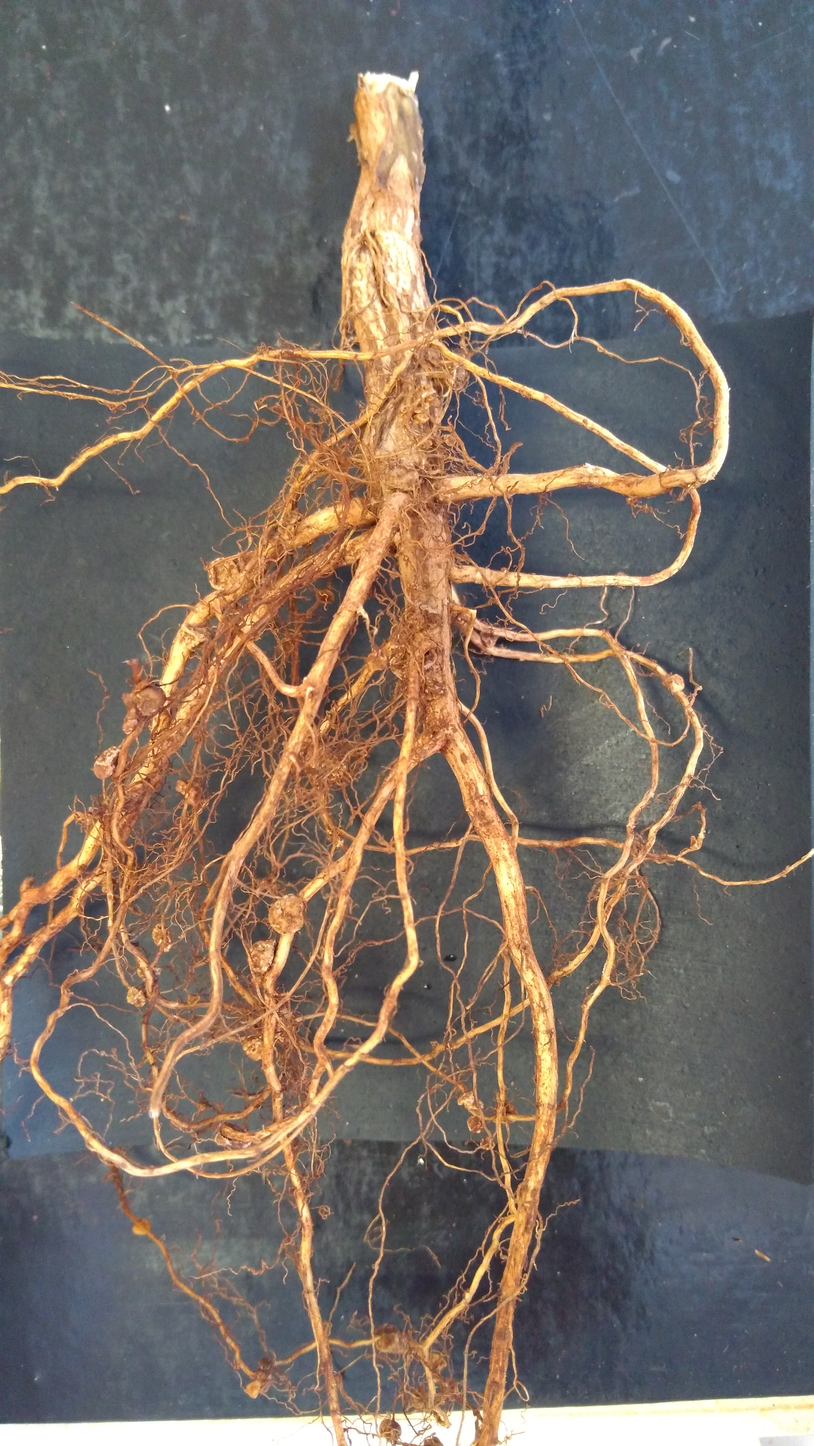nodule: (303, 741, 351, 790), (266, 893, 309, 935), (203, 553, 247, 594), (91, 744, 136, 781), (388, 647, 438, 680), (135, 676, 169, 715), (246, 939, 278, 973), (380, 467, 420, 492), (150, 921, 176, 955), (374, 1325, 403, 1354), (120, 690, 140, 732), (240, 1035, 266, 1066), (128, 1213, 154, 1242), (379, 1413, 405, 1442), (241, 1376, 263, 1403), (661, 672, 688, 694), (366, 649, 389, 674), (425, 395, 445, 423), (453, 1087, 476, 1110), (126, 985, 147, 1009), (462, 1111, 482, 1136), (135, 964, 162, 982), (478, 628, 500, 648), (400, 454, 427, 470), (315, 588, 337, 606), (184, 784, 201, 807), (478, 1134, 497, 1153), (256, 1356, 274, 1376), (417, 436, 434, 449), (411, 412, 429, 424), (442, 434, 458, 447), (175, 779, 188, 794), (187, 992, 200, 1007)
